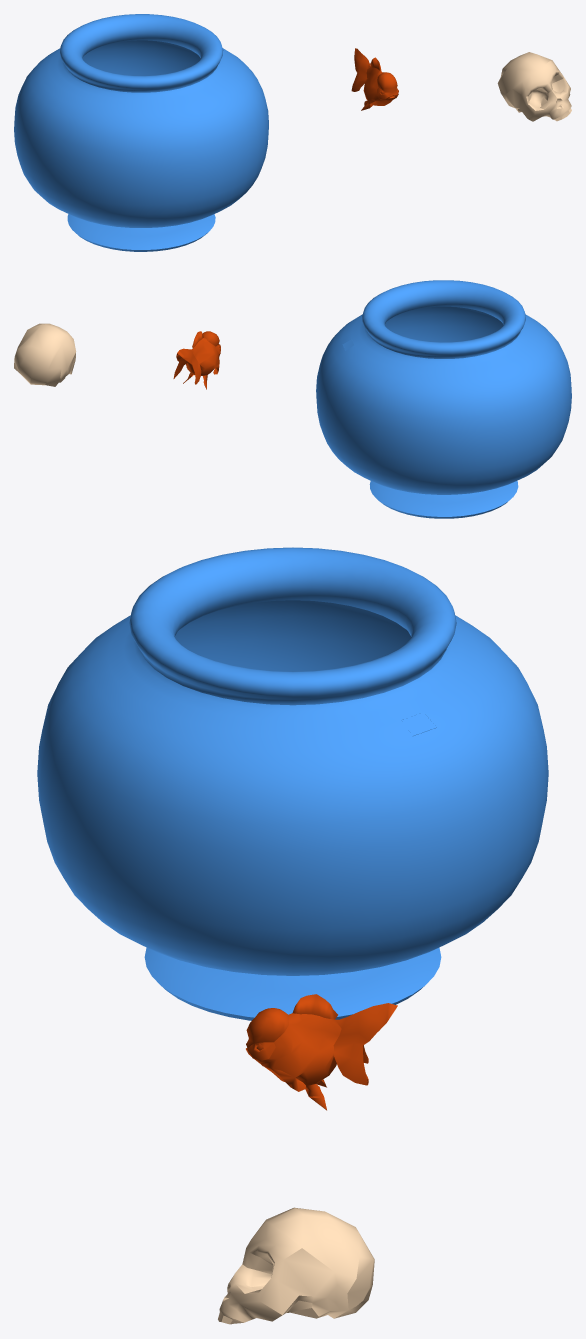
Rendered from Fish Bowl Skull.obj.
The picture shows the model from 3 angles, top to bottom: view 1: azimuth 30°, elevation 25°; view 2: azimuth 150°, elevation 25°; view 3: azimuth 270°, elevation 25°; orthographic projection. The views are drawn at different scales.
Parts seen in each view (by area): view 1: Bowl_Mesh, Skull_Mesh, Fish_Mesh; view 2: Bowl_Mesh, Skull_Mesh, Fish_Mesh; view 3: Bowl_Mesh, Skull_Mesh, Fish_Mesh.
Part boxes in pixels (bbox=[...]): Bowl_Mesh: bbox=[14, 14, 268, 251]; Skull_Mesh: bbox=[497, 52, 571, 121]; Fish_Mesh: bbox=[351, 48, 398, 110]; Bowl_Mesh: bbox=[316, 280, 571, 518]; Skull_Mesh: bbox=[14, 323, 76, 386]; Fish_Mesh: bbox=[173, 331, 220, 389]; Bowl_Mesh: bbox=[37, 547, 548, 1020]; Skull_Mesh: bbox=[218, 1207, 374, 1324]; Fish_Mesh: bbox=[246, 994, 397, 1110].
Bounding box in the file's own units: 37.13 × 11.71 × 15.38.
